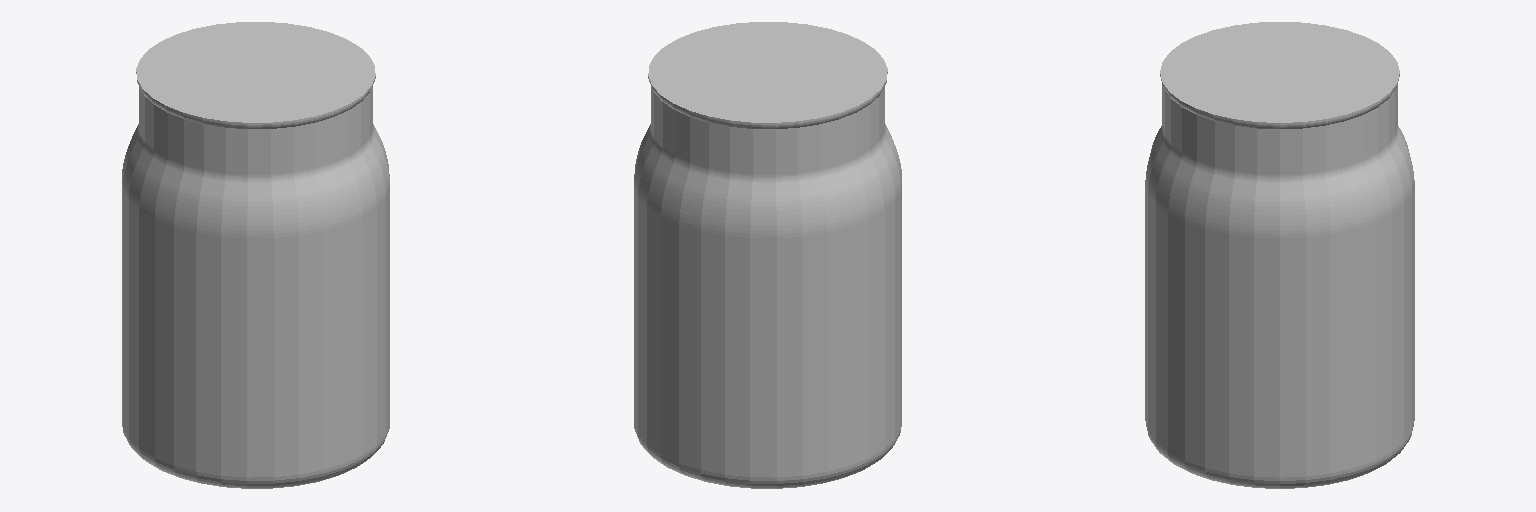
Rendered from Specimen Jar.obj.
The picture shows the model from 3 angles: view 1: azimuth 30°, elevation 25°; view 2: azimuth 150°, elevation 25°; view 3: azimuth 270°, elevation 25°; orthographic projection.
Parts seen in each view (by area): view 1: Jar_High; view 2: Jar_High; view 3: Jar_High.
Boxes of the visible parts, box(x1,y1,x2,y2) form: Jar_High: box(122, 22, 389, 488); Jar_High: box(634, 22, 901, 488); Jar_High: box(1145, 22, 1414, 488).
Bounding box in the file's own units: 0.22 × 0.3313 × 0.22.